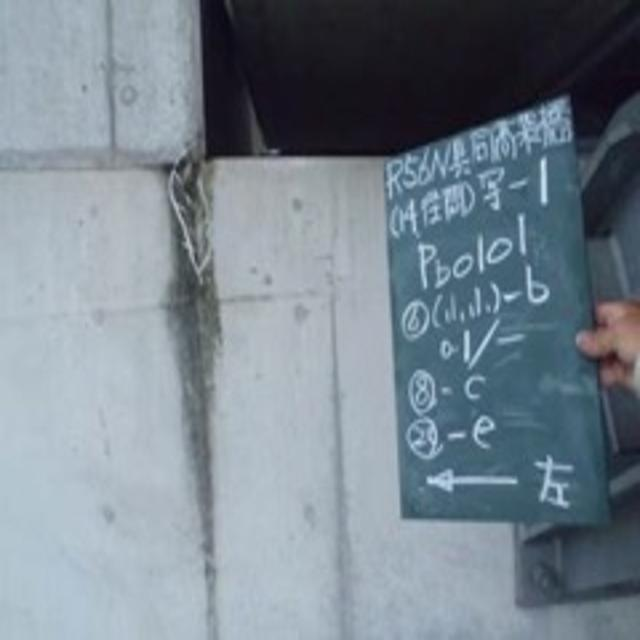leakage: (154, 150, 242, 496)
